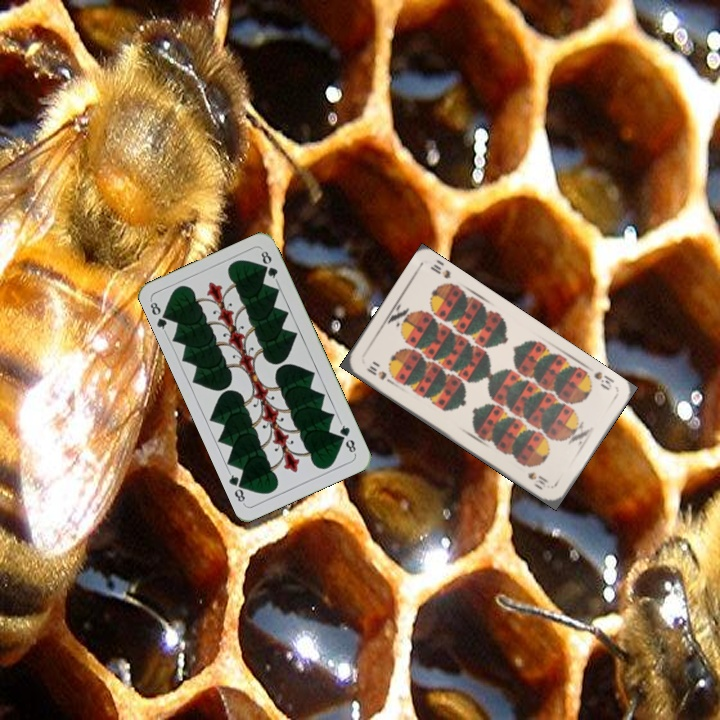G8: (146, 296, 173, 335), (335, 418, 359, 457)
S10: (362, 361, 395, 386), (589, 367, 617, 393)
